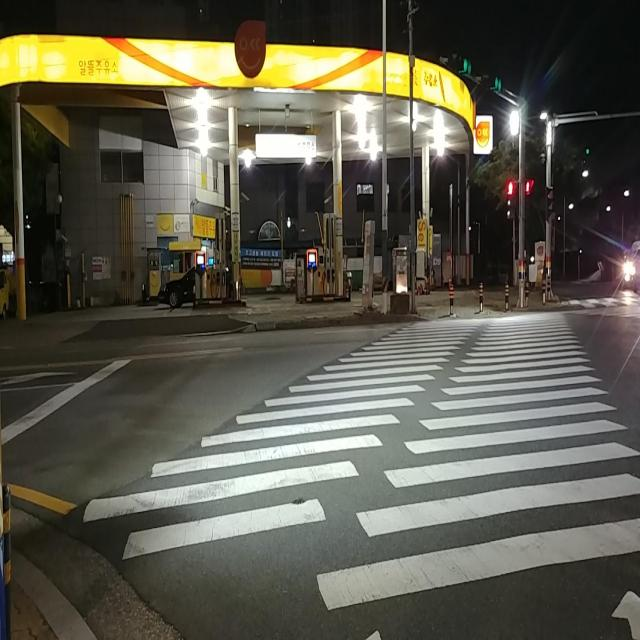빨간불: (504, 181, 516, 225), (524, 178, 533, 219)
횡단보도: (84, 309, 640, 640)
